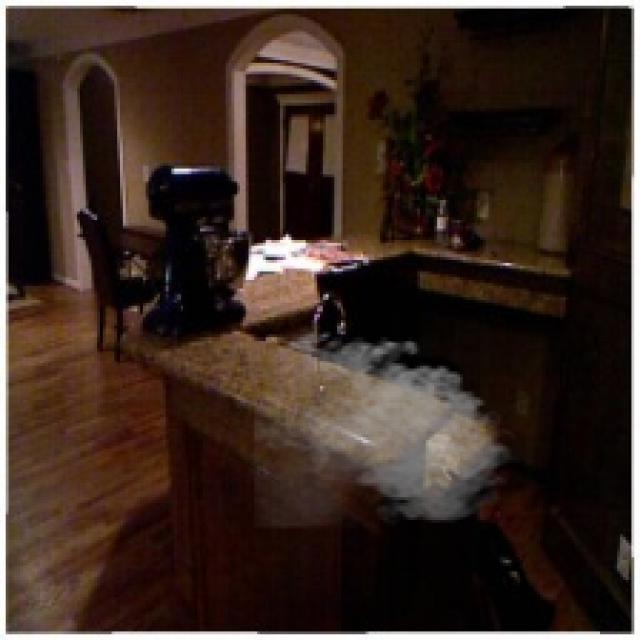Smoke: (255, 326, 520, 528)
